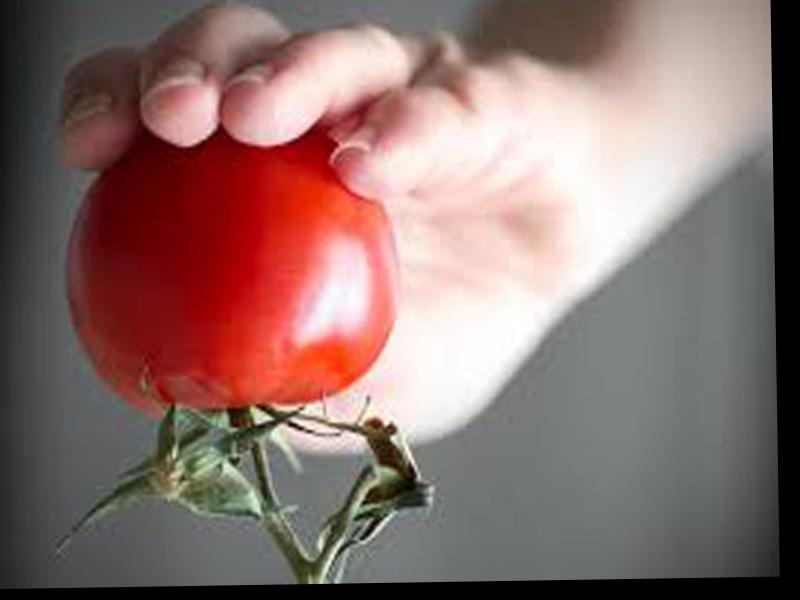Tomato: (63, 126, 399, 423)
